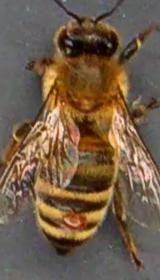varroa_mite: (48, 200, 94, 234)
